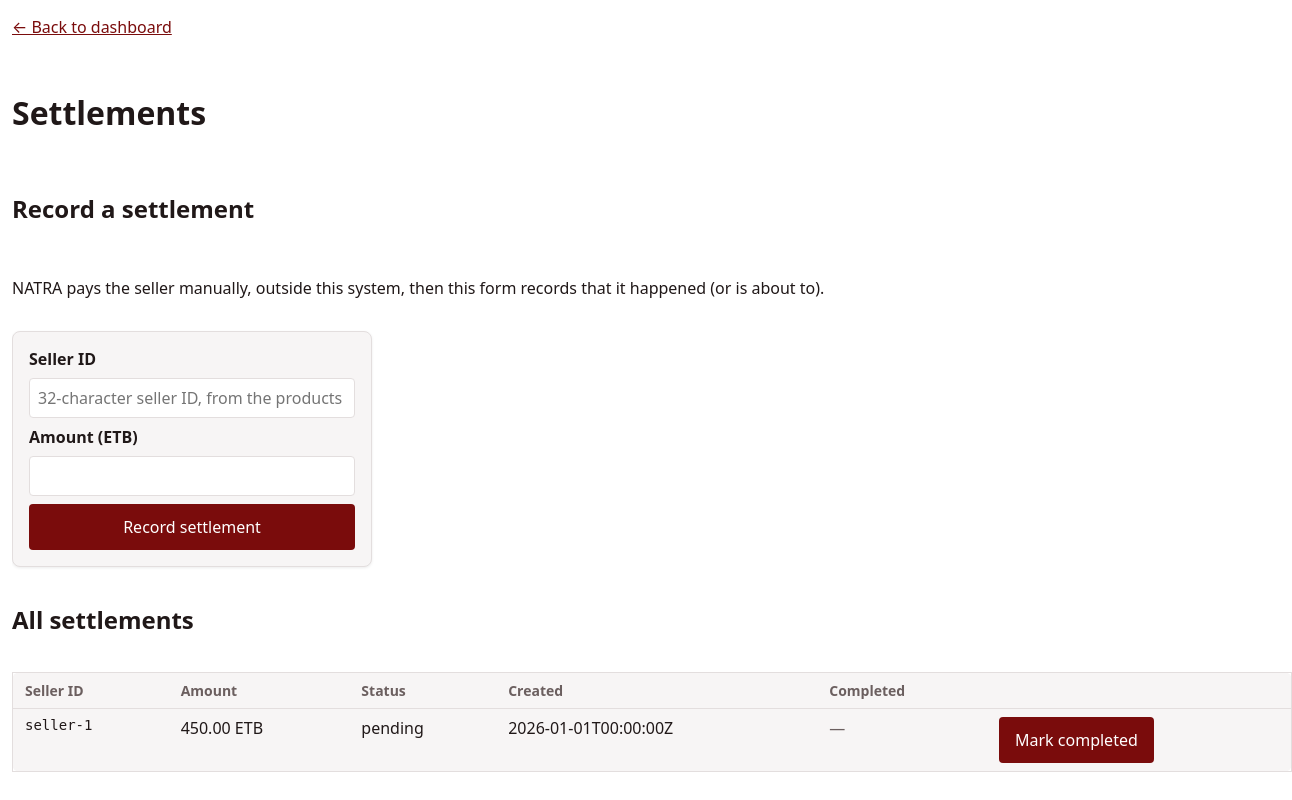
Test: AdminSettlements › shows an inline error and keeps the row completable on a non-auth complete failure
expect the text "seller-1" is shown: met, box [12,708,169,771]
Click the button "Mark completed": [1076, 740] box [999,716,1154,762]
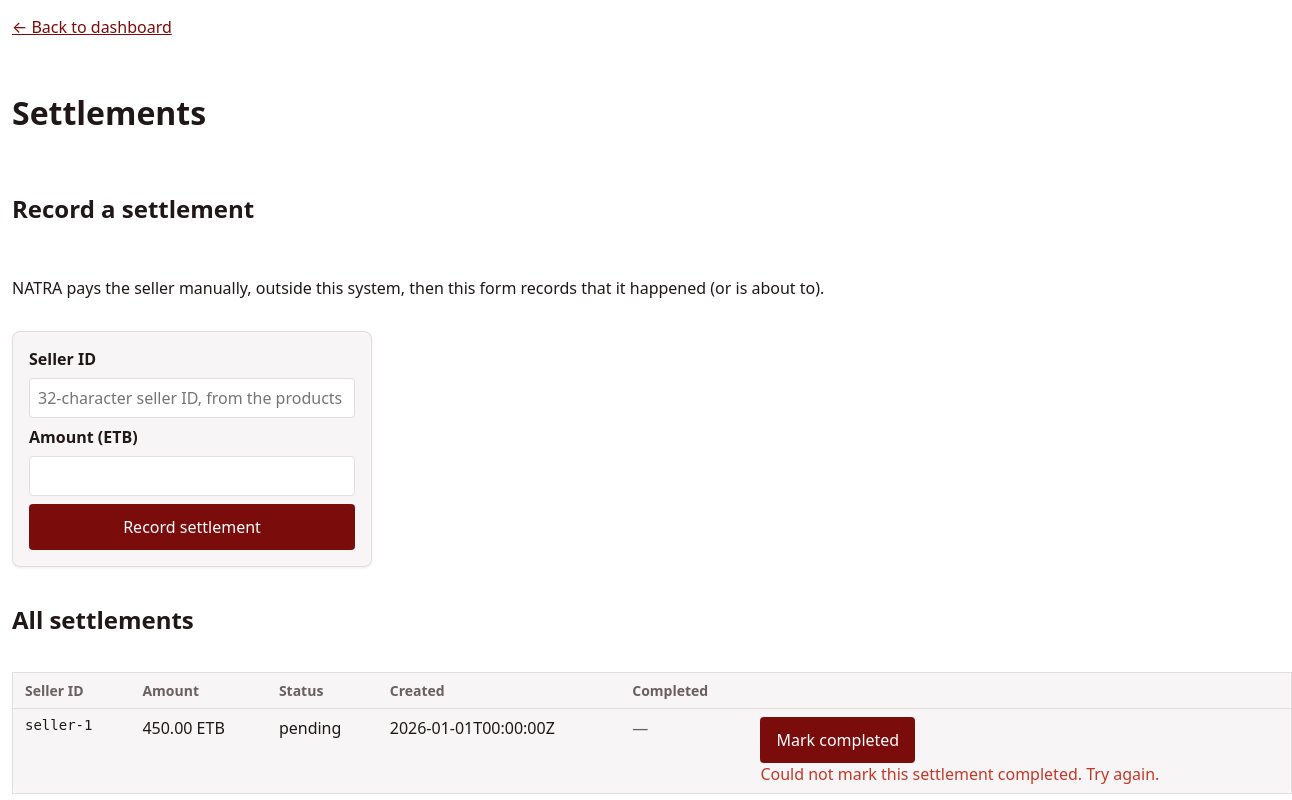
expect the button "Mark completed" is shown: met, box [760,716,915,762]
expect the message reads "Could not mark this settlement completed. Try again.": met, box [760,762,1159,784]
